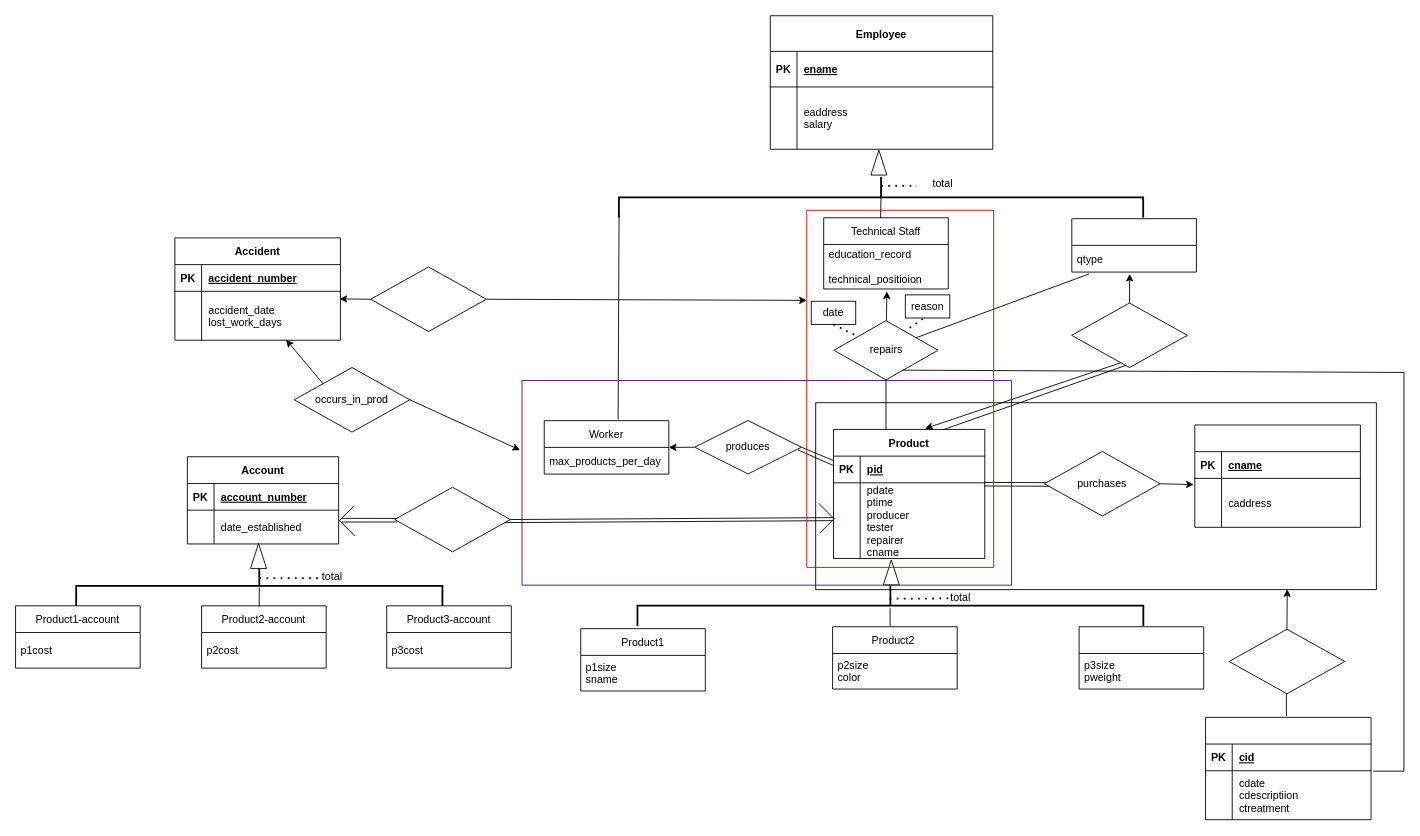
Some shapes in this 1420 by 836 pixel diagram are drawn without their labels. The shapes that lost their labels are listed below. From the top down, each one's box as (x1, y1, x2, y2) in pixels, then its label:
(1071, 218, 1196, 272): Quality Controller
(370, 266, 486, 332): occurs_in_repair
(1071, 302, 1187, 368): checks
(1194, 424, 1360, 527): Customer
(394, 486, 510, 552): maintains
(1078, 626, 1204, 689): Product3
(1228, 628, 1345, 694): files
(1205, 716, 1371, 820): Complaint
